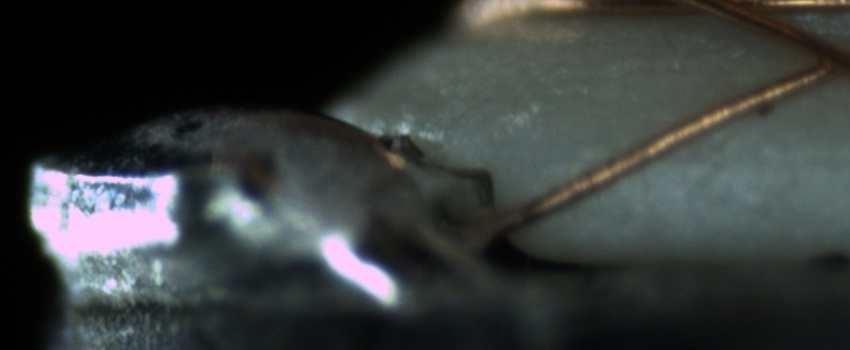CL: (791, 29, 848, 86)
DL: (563, 127, 841, 187)
